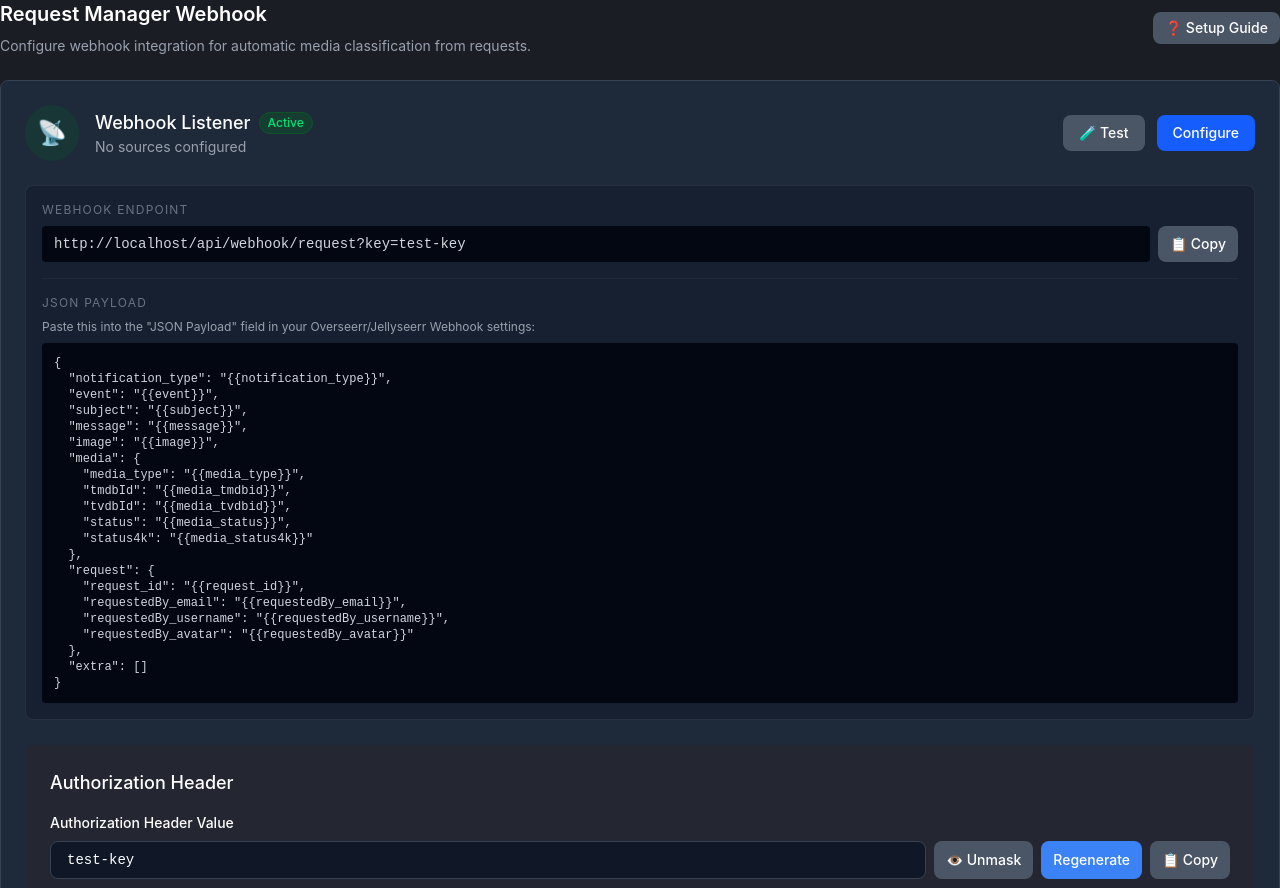
Test: Webhooks view › shows edit mode with event rules toggles when Configure is clicked
The image size is (1280, 888).
Click the button "Configure". click: (1206, 133)
box: [1156, 115, 1255, 151]
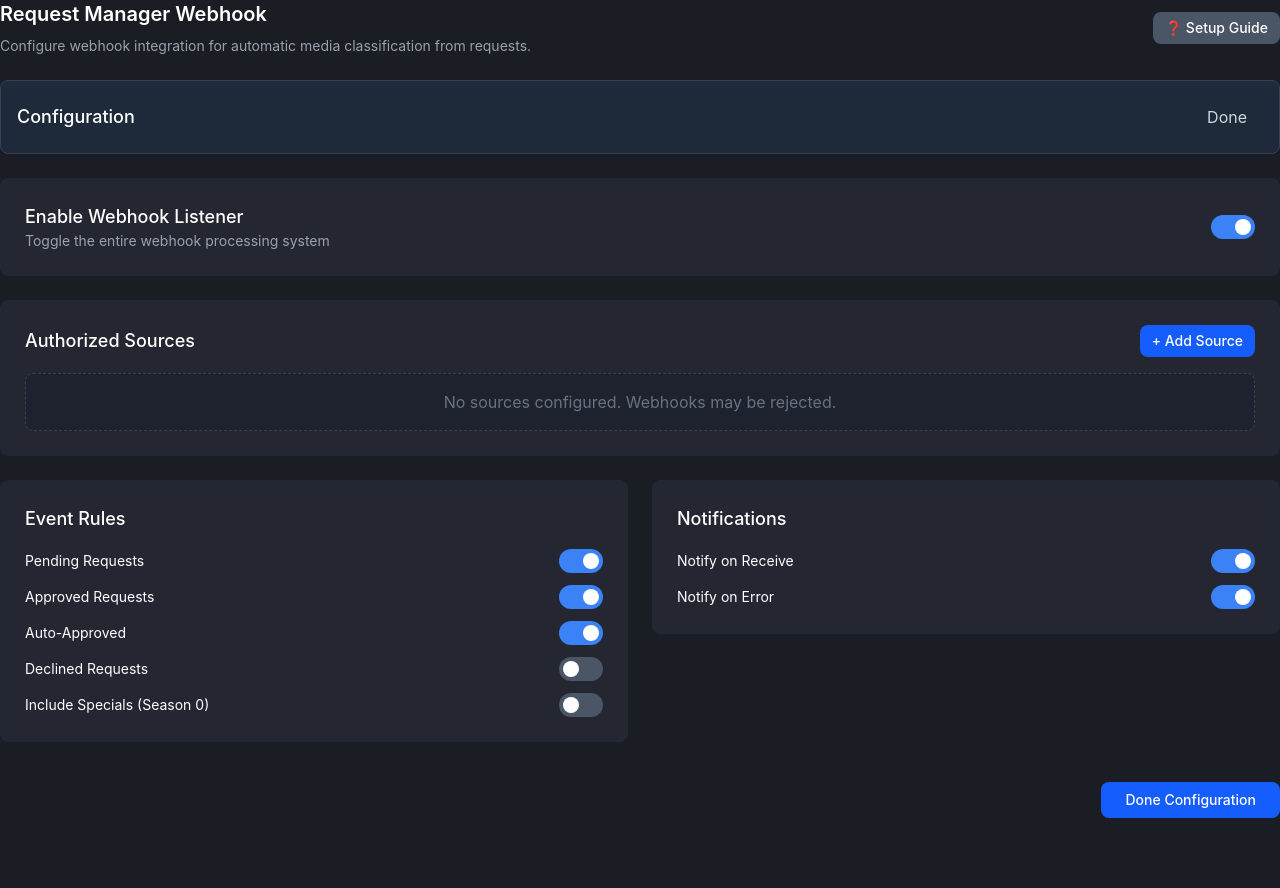
Check: the text "Configuration" is shown, box [17, 103, 135, 131]
Check: the text "Event Rules" is shown, box [25, 508, 126, 529]
Check: the text "Pending Requests" is shown, box [25, 551, 144, 571]
